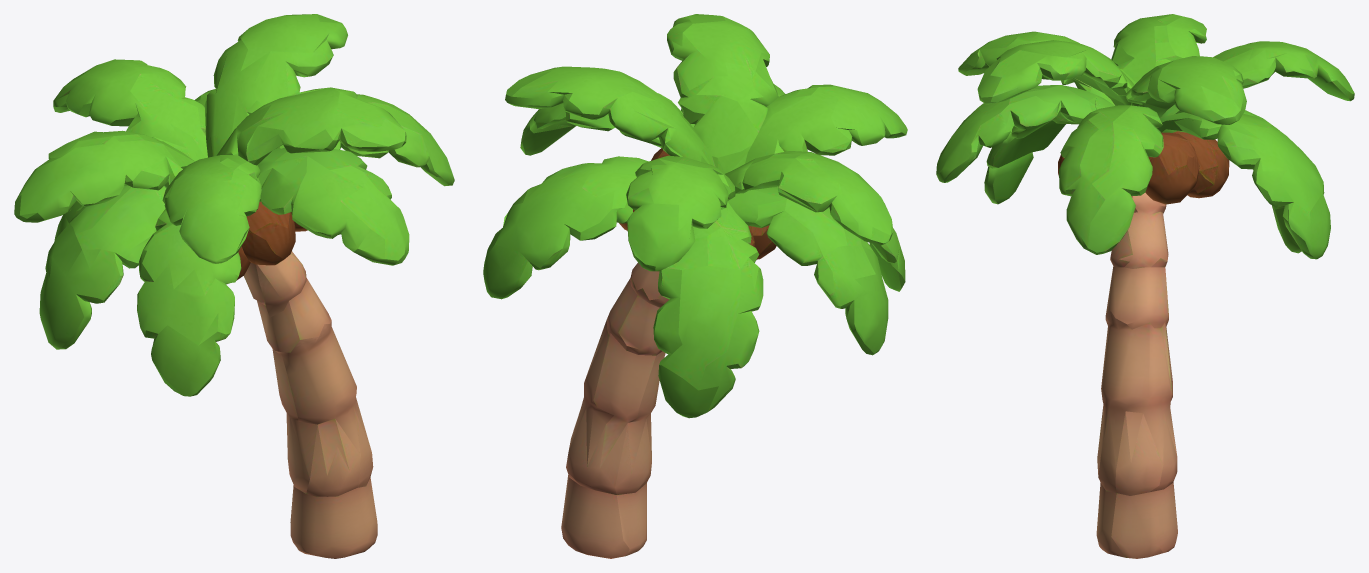
File: palm.glb
3 renders of one model, left to right at view 1: azimuth 30°, elevation 25°; view 2: azimuth 150°, elevation 25°; view 3: azimuth 270°, elevation 25°, orthographic. The views are drawn at different scales.
Bounding box in the file's own units: 1.59 × 1.9 × 1.52.
Materials: 1 (1 with a texture image).
